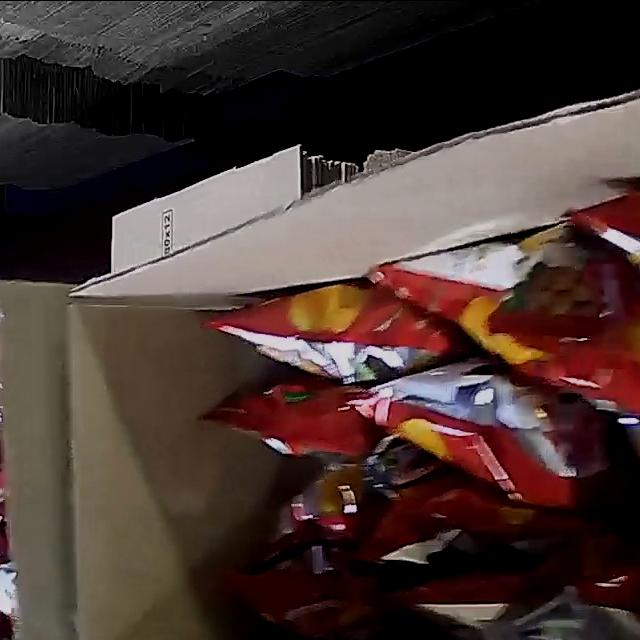masala: (193, 181, 640, 640), (0, 302, 32, 640)
